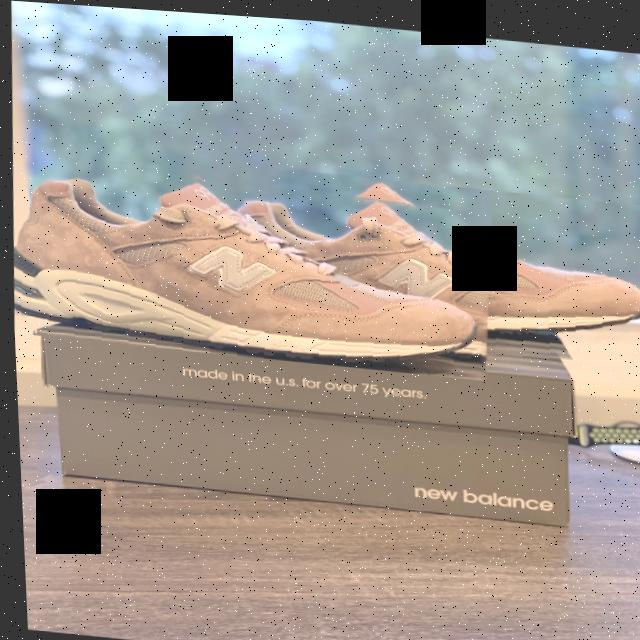shoe: (5, 147, 495, 374), (224, 160, 640, 371)
